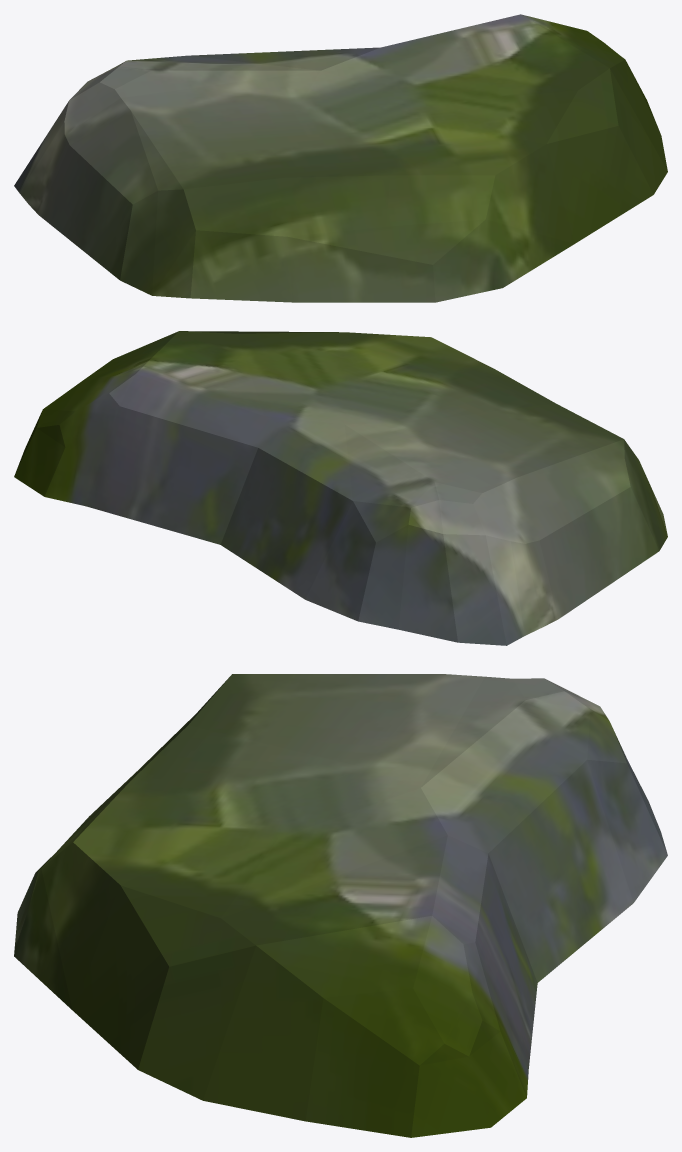
Rendered from Pebble_Round_1.gltf.
3 renders of one model, top to bottom at view 1: azimuth 30°, elevation 25°; view 2: azimuth 150°, elevation 25°; view 3: azimuth 270°, elevation 25°, orthographic. The views are drawn at different scales.
Parts seen in each view (by area): view 1: Pebble_Round_1; view 2: Pebble_Round_1; view 3: Pebble_Round_1.
Part boxes in pixels (x1,y1,x2,y2): Pebble_Round_1: (14,14,667,302); Pebble_Round_1: (14,331,667,645); Pebble_Round_1: (14,674,667,1137).
Bounding box in the file's own units: 0.5 × 0.0955 × 0.367.
Materials: 1 (1 with a texture image).
